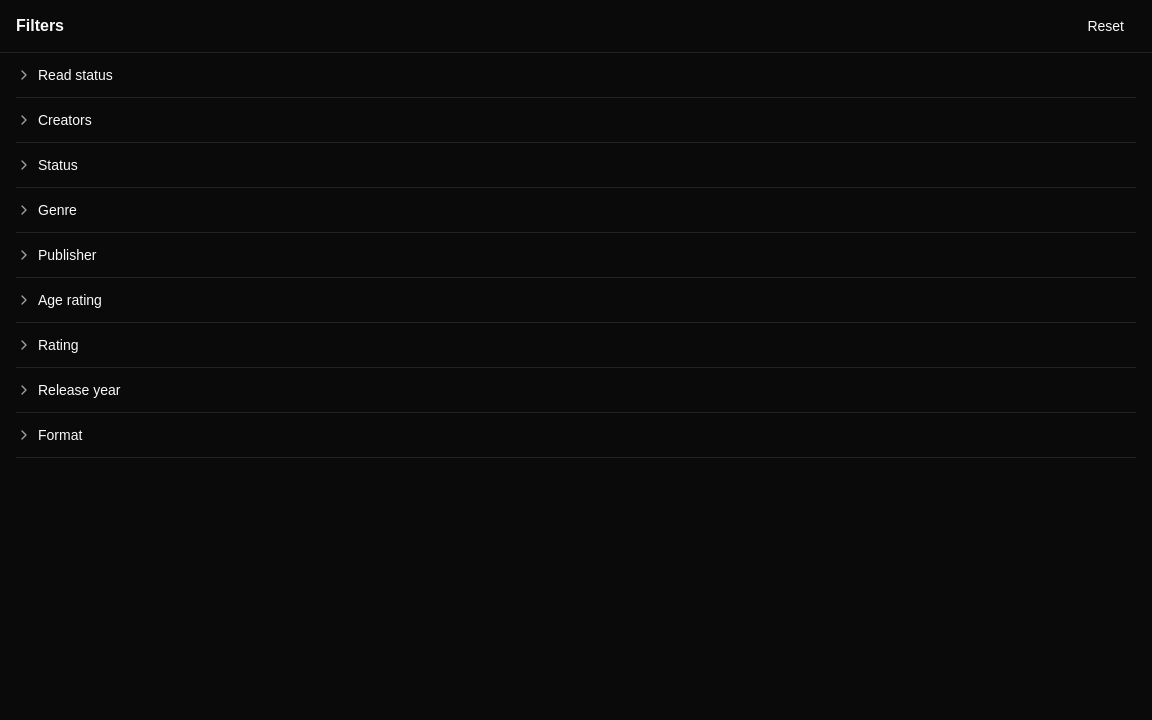
Test: FilterPanelInner › seeds a rating point from one entry, snapped onto the 0.05 tag grid
The image size is (1152, 720).
Click the button "Rating" at (58, 345), box [16,323,1136,367]
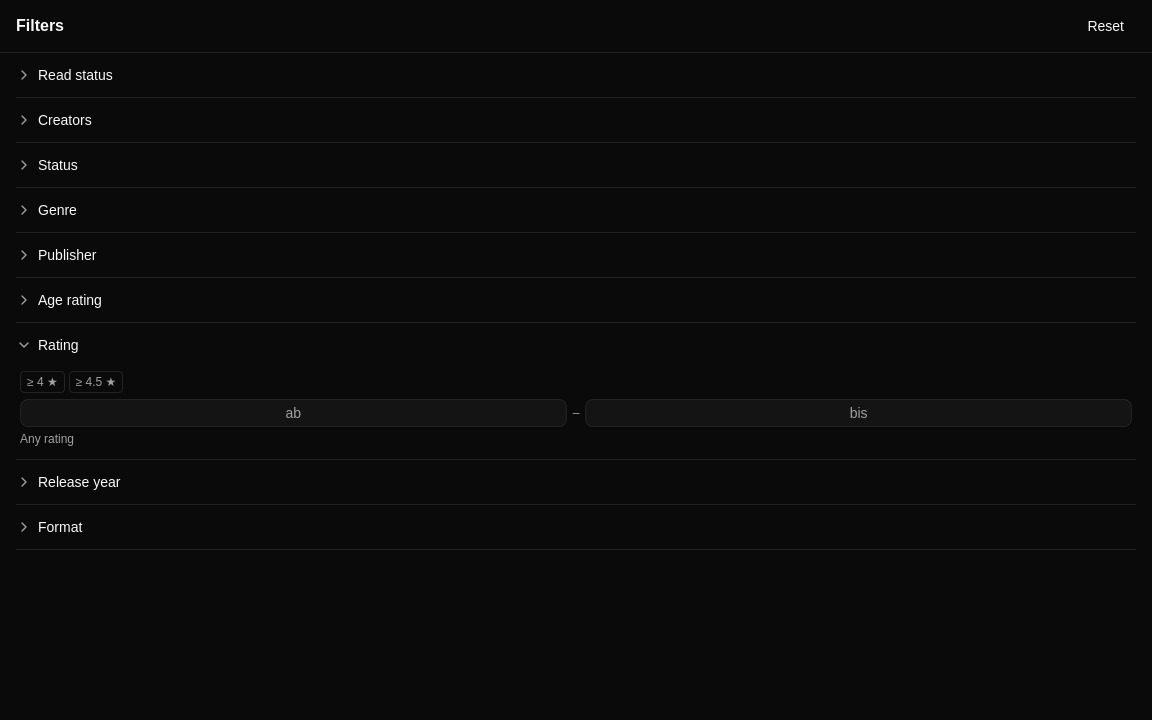
Type "4.13" into the field named "Rating from" at (293, 413), box [20,399,567,427]
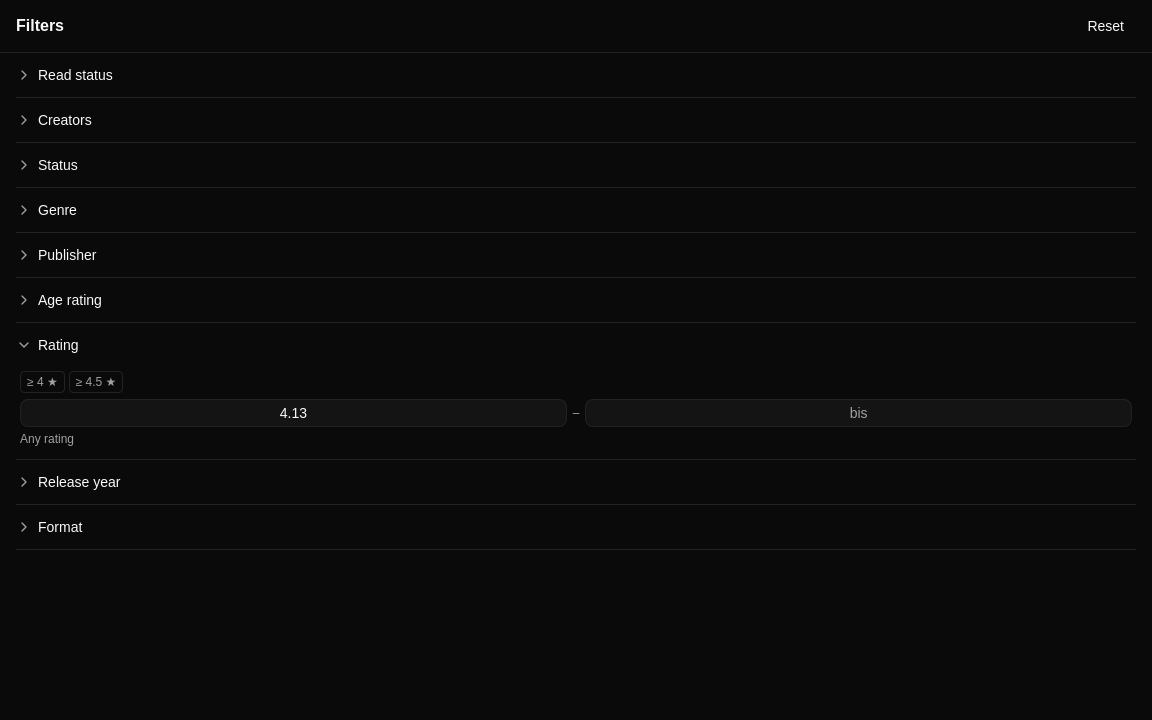
Press Enter in the field named "Rating from", box [20,399,567,427]
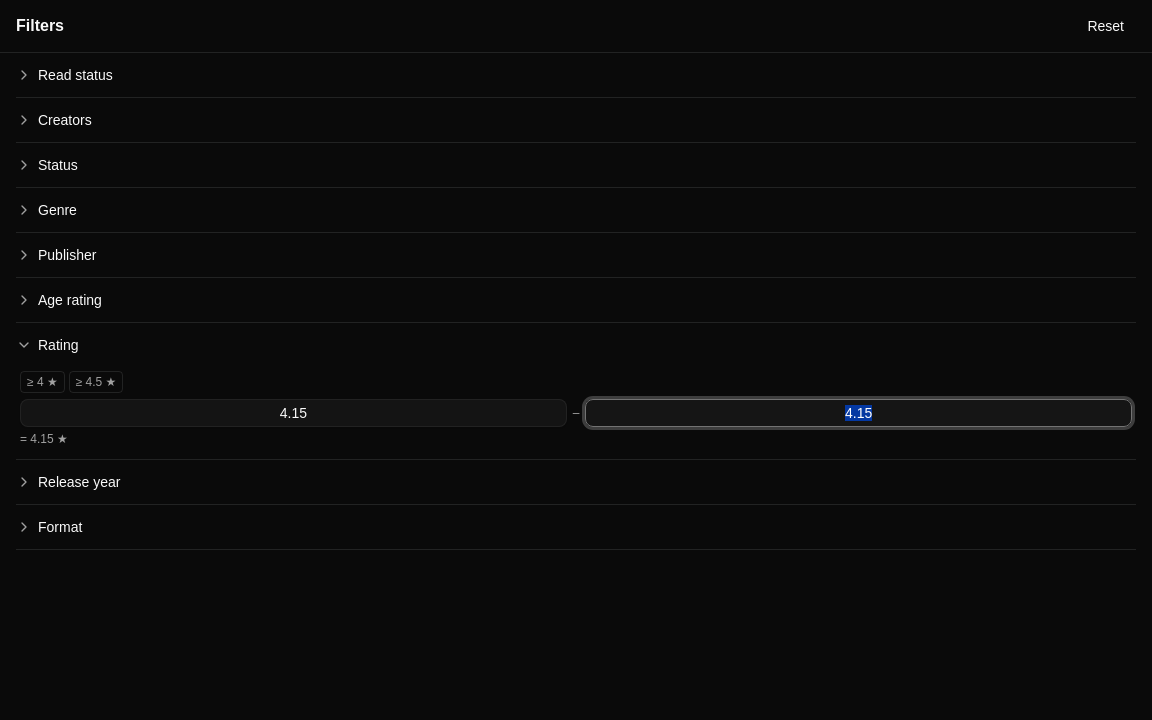
expect the text "= 4.15 ★" is shown: met, box [20,432,68,446]
expect the field named "Rating to" holds "4.15": met, box [585,399,1132,427]
